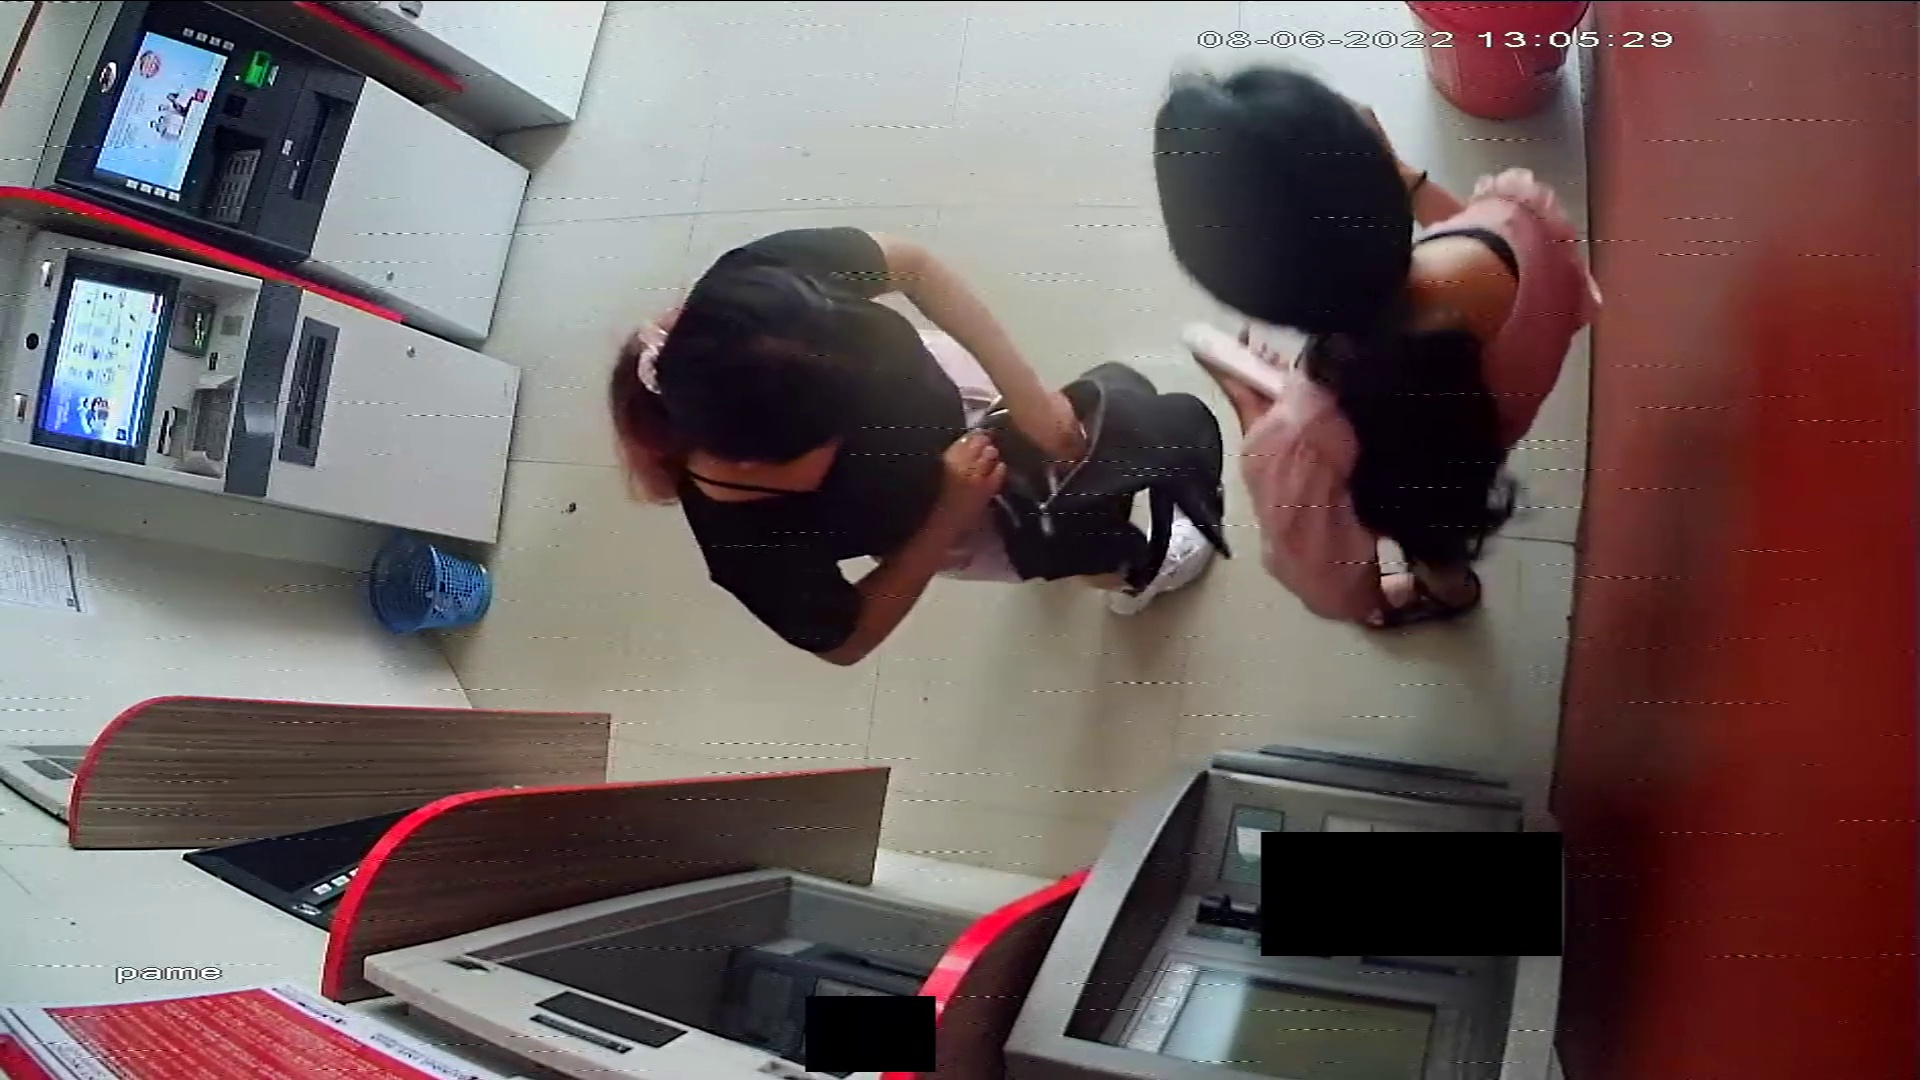person: (608, 231, 1227, 666), (1157, 68, 1608, 639)
